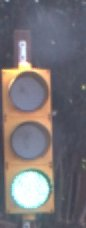Green: (1, 60, 73, 223)
